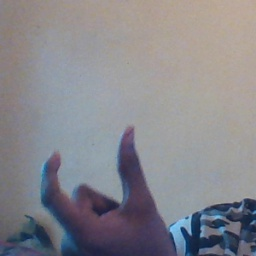U: (38, 117, 157, 254)
